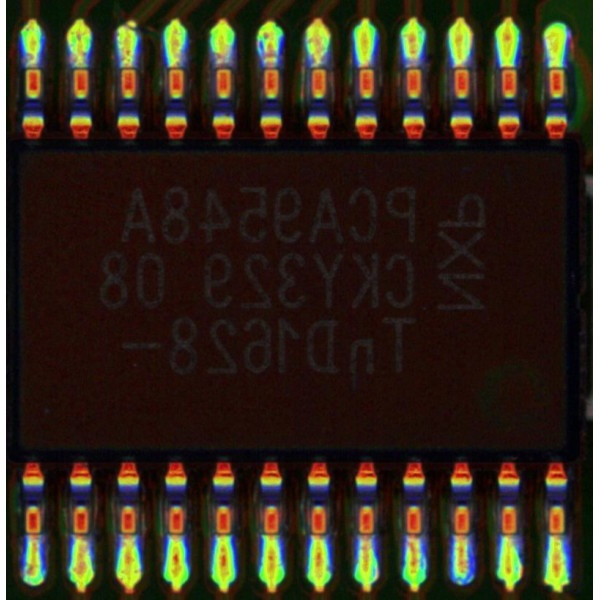Bad_podu: (406, 524, 420, 555), (359, 524, 372, 555), (74, 521, 86, 553), (456, 522, 468, 552), (27, 523, 39, 553)
